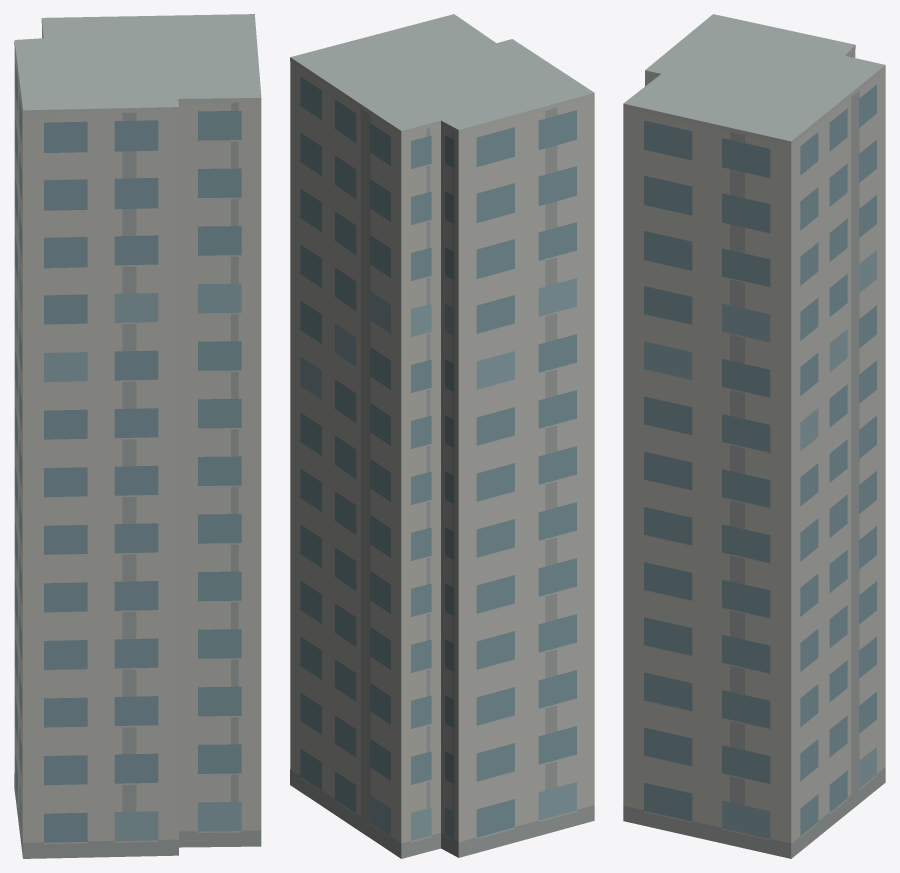
Rendered from survey-upis-32737961.glb.
3 renders of one model, left to right at view 1: azimuth 30°, elevation 25°; view 2: azimuth 150°, elevation 25°; view 3: azimuth 270°, elevation 25°, orthographic. The views are drawn at different scales.
Parts seen in each view (by area): view 1: survey-upis-32737961.tmp; view 2: survey-upis-32737961.tmp; view 3: survey-upis-32737961.tmp.
Part boxes in pixels (bbox=[...]): survey-upis-32737961.tmp: bbox=[14, 14, 261, 858]; survey-upis-32737961.tmp: bbox=[290, 14, 594, 858]; survey-upis-32737961.tmp: bbox=[623, 14, 885, 858].
Size of the model in its own units: 15.11 by 39.65 by 13.15.
